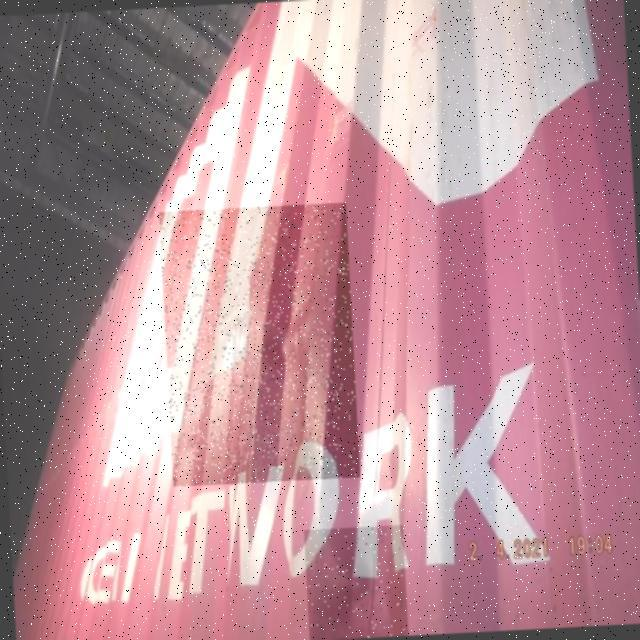Dent: (159, 203, 360, 487)
Minor-Dent: (304, 525, 409, 640)
